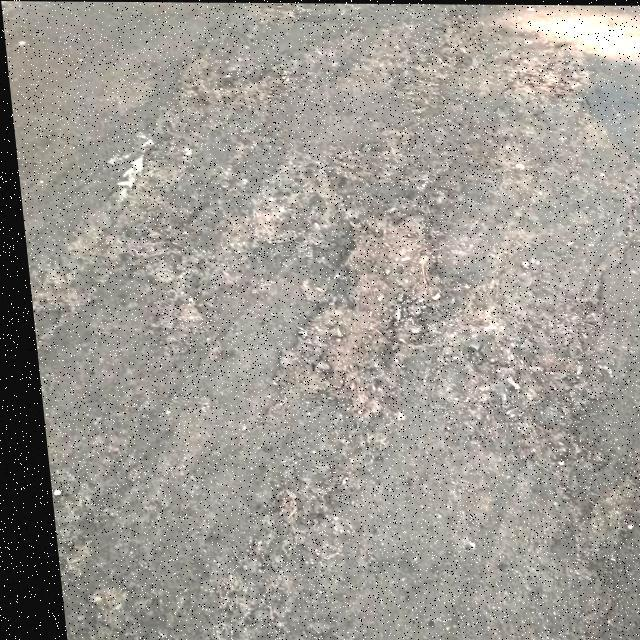pothole: (256, 208, 449, 396)
